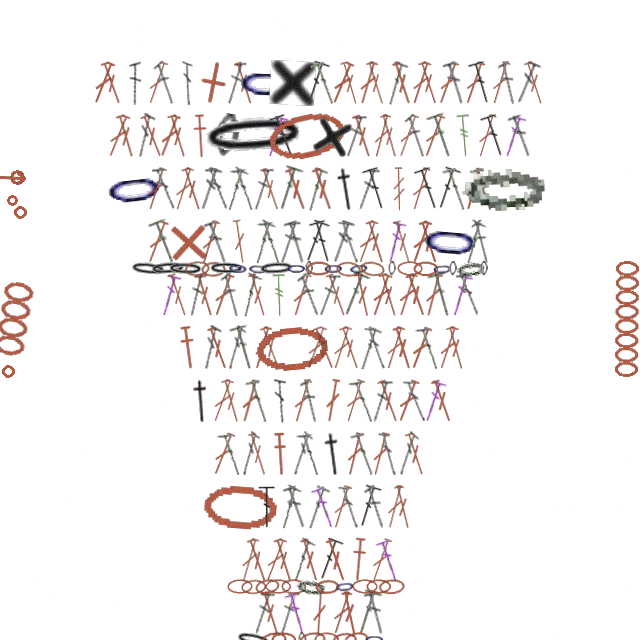chain: (198, 110, 310, 162), (264, 106, 348, 165), (462, 165, 545, 212), (254, 323, 331, 373), (201, 482, 278, 531), (102, 164, 167, 214), (419, 217, 483, 266), (236, 60, 298, 106), (212, 112, 242, 159), (129, 260, 167, 278), (149, 260, 187, 277), (258, 260, 295, 277), (167, 261, 204, 277), (208, 261, 245, 276), (296, 578, 325, 596), (456, 260, 485, 278), (254, 577, 281, 596), (359, 260, 386, 278), (378, 578, 405, 595), (184, 260, 210, 277), (234, 629, 273, 640), (241, 579, 266, 595), (315, 579, 340, 595), (201, 261, 226, 277), (336, 261, 361, 277), (227, 579, 253, 594), (265, 579, 291, 594), (352, 579, 378, 594), (397, 261, 423, 276), (281, 579, 306, 594), (366, 579, 391, 594), (306, 261, 331, 276), (413, 261, 438, 276), (334, 578, 356, 595), (227, 260, 249, 277), (348, 260, 370, 277), (247, 261, 269, 277), (432, 261, 453, 277), (286, 261, 307, 276), (323, 261, 344, 276), (343, 630, 370, 640), (299, 631, 326, 640), (261, 631, 287, 640), (332, 632, 358, 640), (271, 632, 296, 640), (314, 632, 339, 640), (364, 632, 385, 640), (305, 261, 313, 276), (388, 261, 396, 276), (449, 261, 457, 276), (480, 261, 488, 276), (298, 632, 307, 640)
double: (338, 271, 371, 318), (148, 218, 181, 265), (313, 536, 345, 583), (299, 218, 331, 265), (268, 112, 300, 159), (426, 112, 458, 159), (352, 589, 383, 636), (273, 165, 304, 212), (413, 165, 444, 212), (479, 112, 510, 159), (353, 483, 383, 530), (229, 324, 259, 371), (427, 271, 457, 318), (361, 165, 391, 212), (432, 165, 462, 212), (301, 59, 331, 106), (287, 537, 317, 583), (301, 484, 331, 530), (208, 431, 238, 477), (348, 378, 378, 424), (309, 325, 339, 371), (353, 325, 383, 371), (103, 113, 133, 159), (137, 113, 167, 159), (327, 60, 357, 106), (512, 60, 542, 106), (308, 218, 337, 265), (467, 59, 496, 106), (261, 537, 290, 583), (282, 484, 311, 530), (208, 378, 237, 424), (374, 378, 403, 424), (393, 378, 422, 424), (406, 325, 435, 371), (322, 272, 351, 318), (203, 219, 232, 265), (353, 219, 382, 265), (221, 166, 250, 212), (282, 166, 311, 212), (155, 113, 184, 159), (419, 113, 448, 159), (507, 113, 536, 159), (89, 60, 118, 106), (97, 60, 126, 106), (309, 60, 338, 106), (367, 537, 395, 583), (275, 484, 303, 530), (310, 484, 338, 530), (217, 431, 245, 477), (296, 431, 324, 477), (349, 431, 377, 477), (428, 378, 456, 424), (204, 325, 232, 371), (257, 325, 285, 371), (302, 325, 330, 371), (336, 325, 364, 371), (415, 325, 443, 371), (434, 325, 462, 371), (164, 272, 192, 318), (209, 272, 237, 318), (367, 272, 395, 318), (402, 272, 430, 318), (143, 219, 171, 265), (249, 219, 277, 265), (257, 219, 285, 265), (328, 219, 356, 265), (407, 219, 435, 265), (178, 166, 206, 212), (230, 166, 258, 212), (301, 166, 329, 212), (309, 166, 337, 212), (441, 166, 469, 212), (468, 166, 496, 212), (394, 113, 422, 159), (143, 60, 171, 106), (381, 60, 409, 106), (434, 60, 462, 106), (460, 60, 488, 106), (257, 590, 284, 636), (328, 590, 355, 636), (244, 537, 271, 583), (270, 537, 297, 583), (323, 537, 350, 583), (375, 537, 402, 583), (328, 484, 355, 530), (402, 431, 429, 477), (244, 378, 271, 424), (341, 378, 368, 424), (420, 378, 447, 424), (328, 325, 355, 371), (381, 325, 408, 371), (389, 325, 416, 371), (191, 272, 218, 318), (288, 272, 315, 318), (375, 272, 402, 318), (394, 272, 421, 318), (283, 219, 310, 265), (362, 219, 389, 265), (460, 219, 487, 265), (143, 166, 170, 212), (170, 166, 197, 212), (196, 166, 223, 212), (257, 166, 284, 212), (407, 166, 434, 212), (164, 113, 191, 159), (349, 113, 376, 159), (473, 113, 500, 159), (500, 113, 527, 159), (389, 60, 416, 106), (407, 60, 434, 106), (415, 60, 442, 106), (442, 60, 469, 106), (521, 60, 548, 106), (296, 272, 323, 317), (363, 590, 389, 636), (297, 537, 323, 583), (245, 431, 271, 477), (218, 378, 244, 424), (237, 378, 263, 424), (289, 378, 315, 424), (443, 325, 469, 371), (237, 272, 263, 318), (245, 272, 271, 318), (197, 219, 223, 265), (390, 219, 416, 265), (416, 219, 442, 265), (461, 166, 487, 212), (113, 113, 139, 159), (263, 113, 289, 159), (231, 60, 257, 106), (337, 60, 363, 106), (355, 60, 381, 106), (363, 60, 389, 106), (487, 60, 513, 106), (403, 113, 429, 158), (152, 60, 178, 105), (284, 590, 309, 636), (237, 537, 262, 583), (342, 431, 367, 477), (368, 431, 393, 477), (250, 325, 275, 371), (157, 272, 182, 318), (421, 272, 446, 318), (448, 272, 473, 318), (369, 113, 394, 159), (377, 113, 402, 159), (363, 484, 388, 529), (289, 431, 314, 476), (395, 431, 420, 476), (403, 378, 428, 423), (316, 272, 341, 317), (456, 272, 481, 317), (152, 166, 177, 211), (205, 166, 230, 211), (355, 166, 380, 211), (383, 484, 407, 530), (391, 484, 415, 530), (383, 219, 407, 265), (251, 590, 275, 635), (369, 378, 393, 423), (198, 325, 222, 370), (364, 325, 388, 370), (219, 272, 243, 317), (277, 219, 301, 264), (132, 113, 156, 158), (343, 113, 367, 158), (338, 590, 361, 636), (351, 272, 374, 318), (277, 590, 300, 635), (338, 484, 361, 529), (238, 431, 261, 476), (224, 325, 247, 370), (338, 219, 361, 264), (470, 219, 493, 264), (251, 166, 274, 211), (224, 60, 247, 105), (299, 378, 321, 423), (497, 60, 519, 105), (378, 431, 399, 476), (322, 378, 343, 423), (186, 272, 207, 317), (229, 219, 250, 264), (258, 485, 276, 529), (311, 591, 328, 635), (274, 379, 286, 423), (129, 61, 141, 105), (182, 61, 193, 105)
enseble_chain: (612, 260, 640, 379), (0, 279, 37, 360)
half_double: (331, 166, 361, 212), (319, 431, 347, 477), (188, 379, 214, 423), (177, 325, 199, 370), (349, 537, 369, 582), (191, 114, 210, 158), (271, 432, 289, 476)
noise: (7, 167, 27, 187), (0, 171, 28, 185), (12, 204, 29, 221), (0, 363, 16, 379), (5, 193, 19, 207)
single: (188, 57, 239, 108), (308, 110, 358, 162), (269, 60, 316, 106), (165, 219, 211, 265)
treble: (455, 113, 474, 158), (271, 273, 288, 317), (391, 167, 407, 211)
